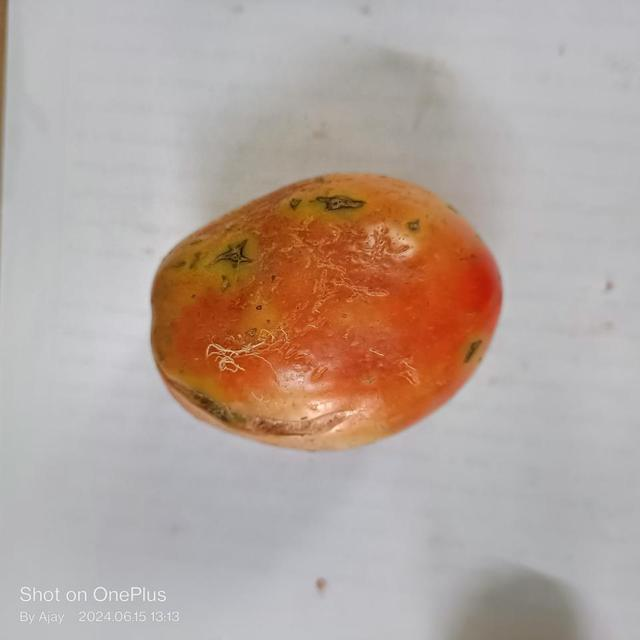Bacterial Spot Fruit: (18, 20, 315, 233)
